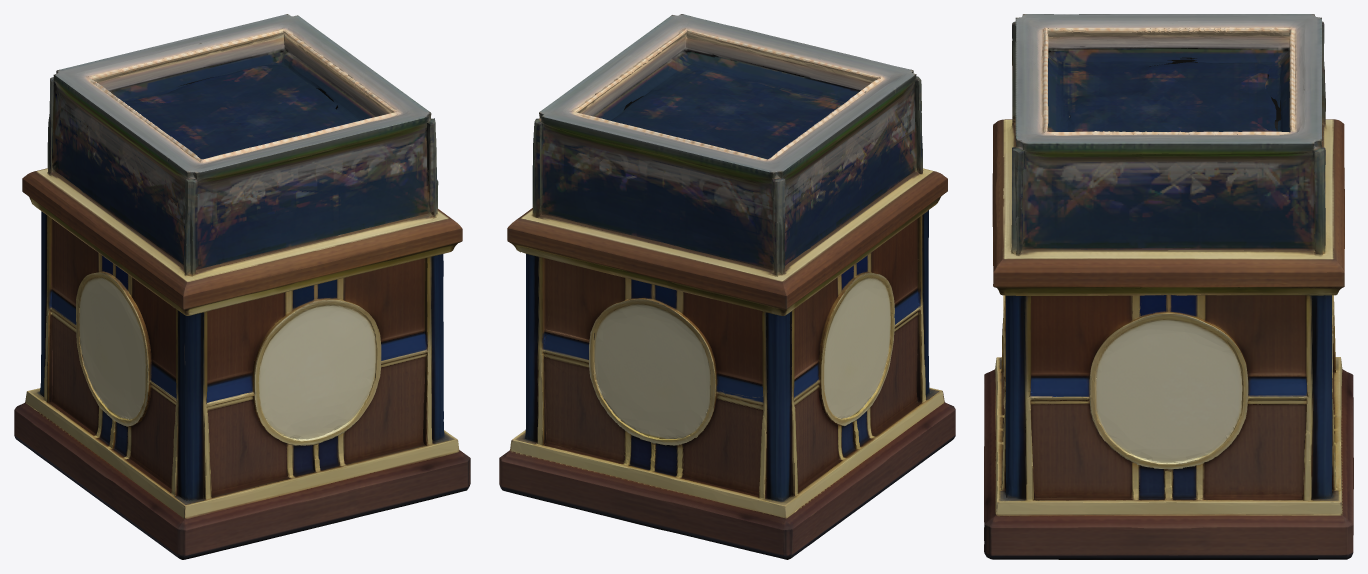
The model's file is sonic_case.glb.
3 views of the same model, side by side, from view 1: azimuth 30°, elevation 25°; view 2: azimuth 150°, elevation 25°; view 3: azimuth 270°, elevation 25° (orthographic). The views are drawn at different scales.
Visible parts, largest first — view 1: world; view 2: world; view 3: world.
Boxes of the visible parts, x1=… form: world: x1=14, y1=14, x2=470, y2=559; world: x1=499, y1=14, x2=955, y2=559; world: x1=984, y1=14, x2=1353, y2=559.
Size of the model in its own units: 0.825 by 1 by 0.8262.
Materials: 1 (1 with a texture image).
